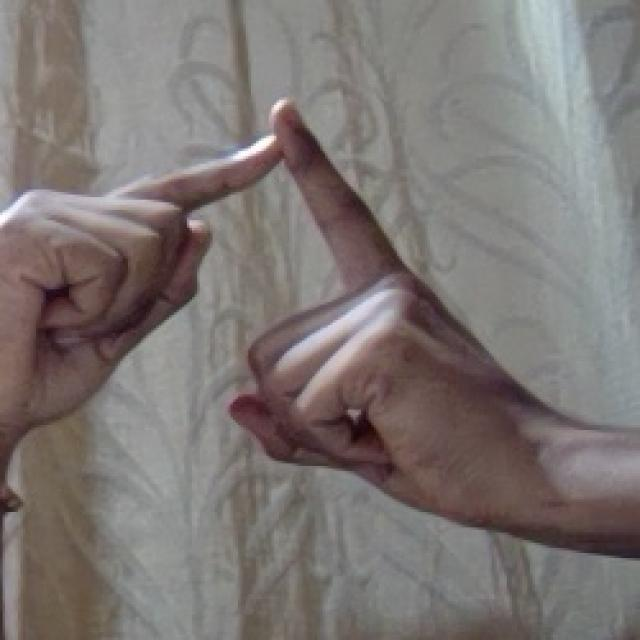Alphabet-E: (4, 102, 640, 557)
